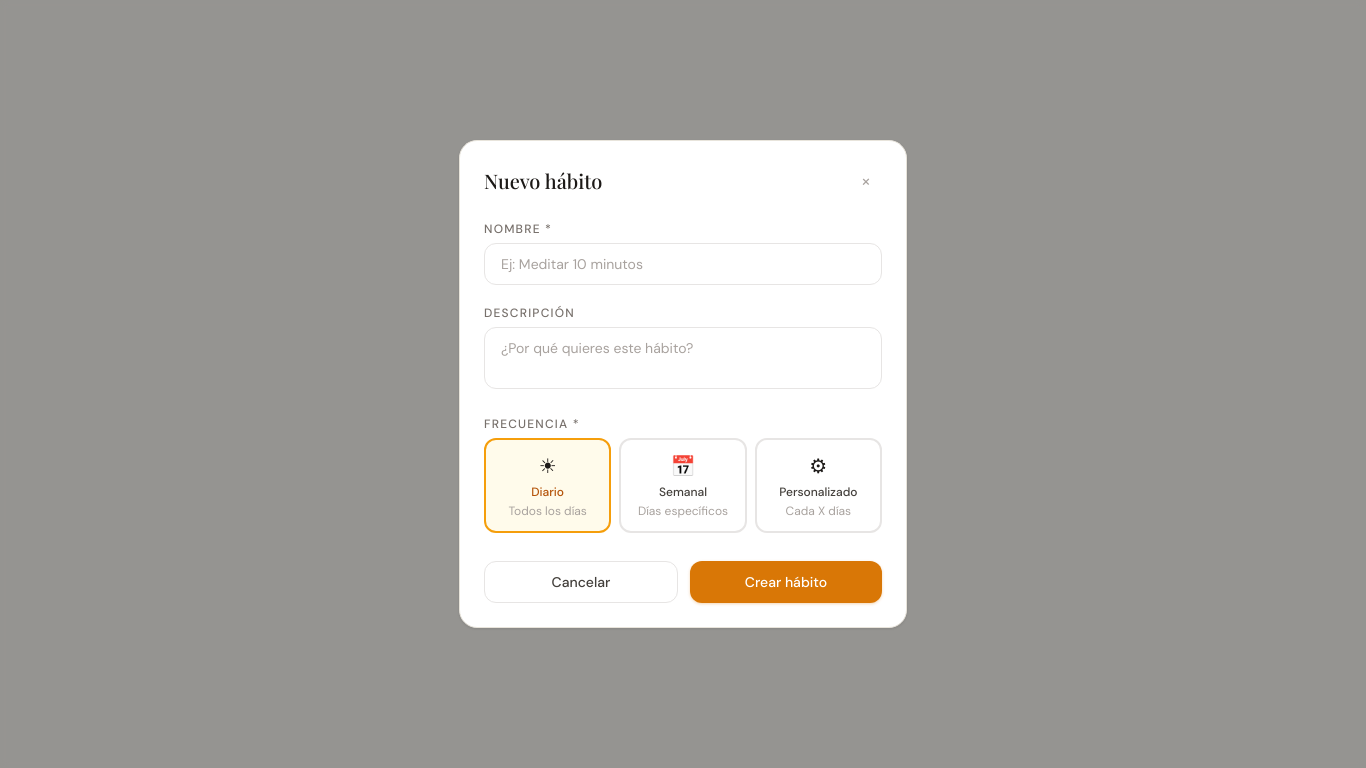
Test: HabitForm — campos condicionales › muestra los 7 botones de días al seleccionar WEEKLY
This screenshot has width=1366, height=768.
Click the text "Semanal": (683, 492) [659,484,707,500]
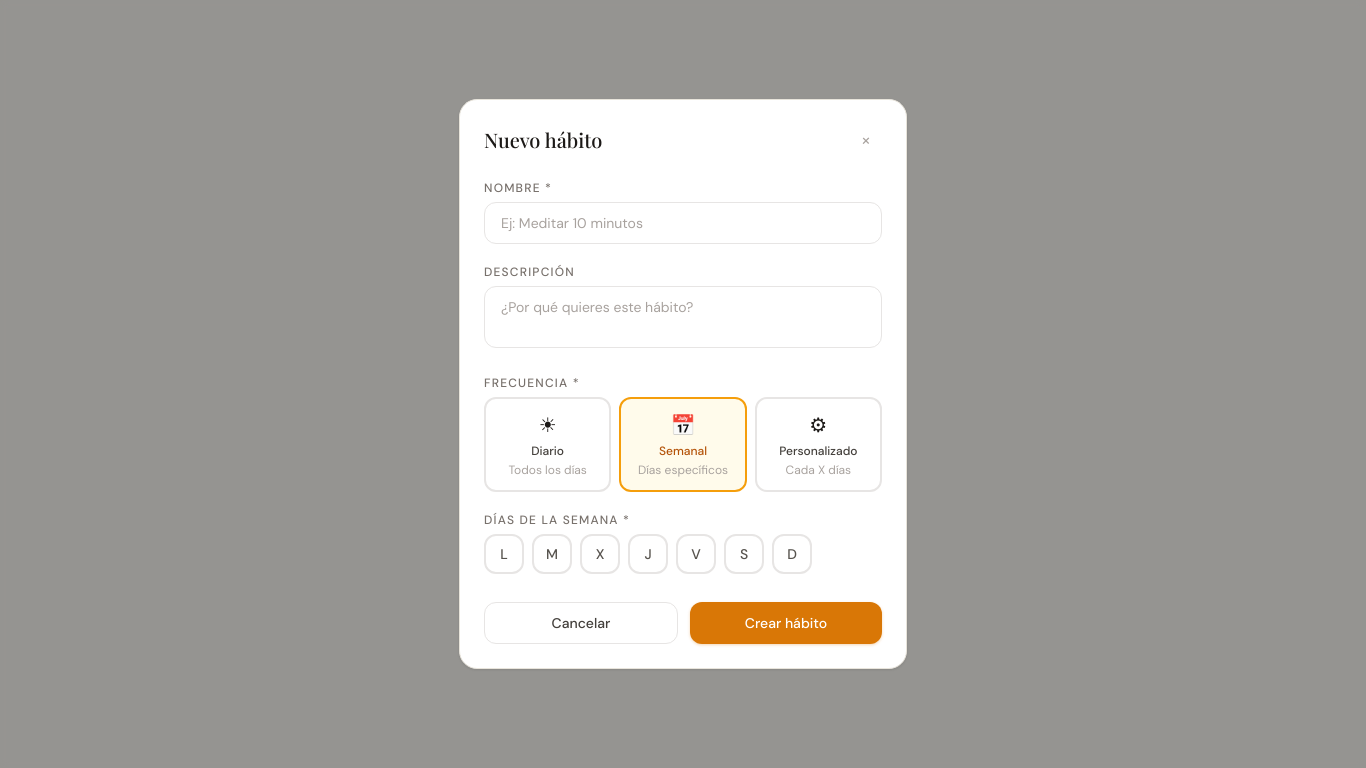
Expected: the button "L" is shown, [484,534,524,574]
Expected: the button "D" is shown, [772,534,812,574]
